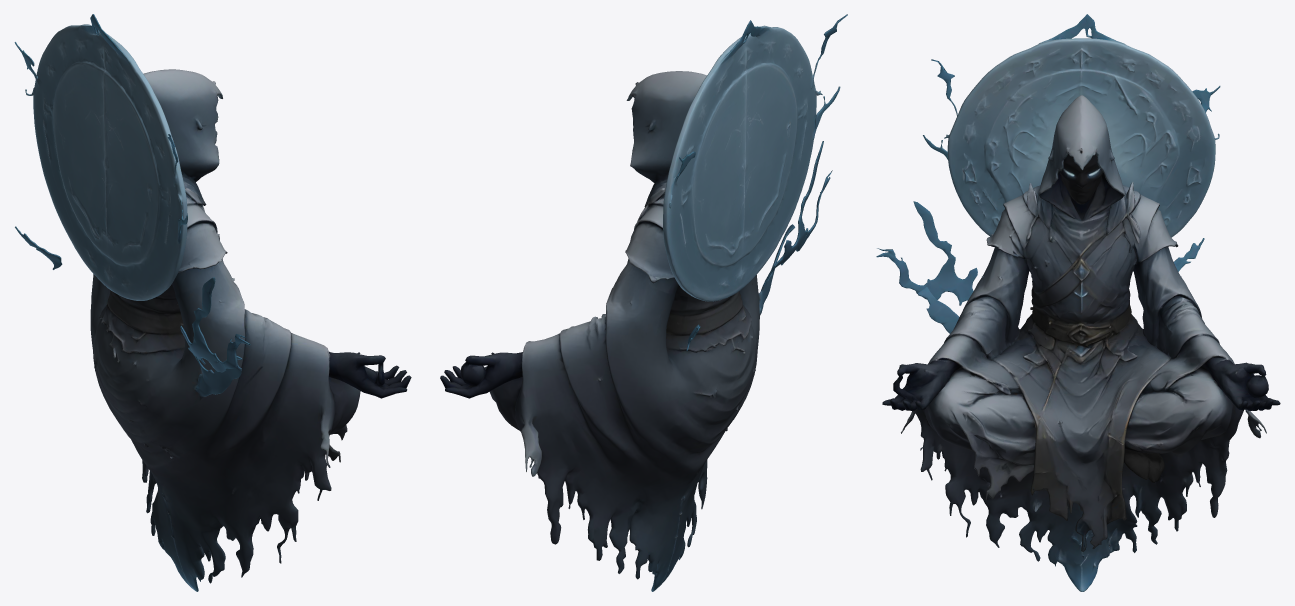
Rendered from monk.glb.
3 renders of one model, left to right at view 1: azimuth 30°, elevation 25°; view 2: azimuth 150°, elevation 25°; view 3: azimuth 270°, elevation 25°, orthographic. The views are drawn at different scales.
Visible parts, largest first — view 1: tripo_node_52c4297d-99b5-4eca-af2b-0b8611cb42c2; view 2: tripo_node_52c4297d-99b5-4eca-af2b-0b8611cb42c2; view 3: tripo_node_52c4297d-99b5-4eca-af2b-0b8611cb42c2.
Part boxes in pixels (left/top/right/bottom): tripo_node_52c4297d-99b5-4eca-af2b-0b8611cb42c2: left=14, top=14, right=411, bottom=591; tripo_node_52c4297d-99b5-4eca-af2b-0b8611cb42c2: left=440, top=14, right=847, bottom=591; tripo_node_52c4297d-99b5-4eca-af2b-0b8611cb42c2: left=876, top=14, right=1280, bottom=591.
Bounding box in the file's own units: 0.3913 × 1 × 0.6862.
1 material, 1 textured.
